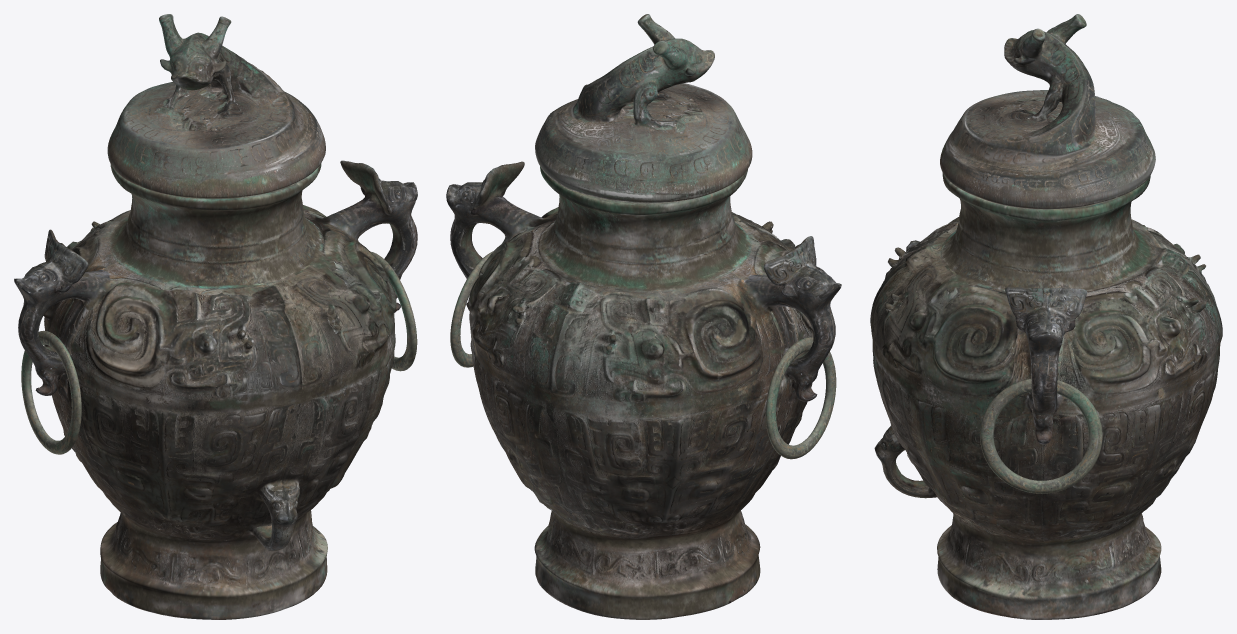
Rendered from STM_Antique_01.fbx.
3 views of the same model, side by side, from view 1: azimuth 30°, elevation 25°; view 2: azimuth 150°, elevation 25°; view 3: azimuth 270°, elevation 25° (orthographic). The views are drawn at different scales.
Parts seen in each view (by area): view 1: STM_Model_01_001, STM_Model_01_002, STM_Model_01_003, STM_Model_01_004; view 2: STM_Model_01_001, STM_Model_01_002, STM_Model_01_003, STM_Model_01_004; view 3: STM_Model_01_001, STM_Model_01_002, STM_Model_01_004.
Part boxes in pixels (box(x1,y1,x2,y2)): STM_Model_01_001: box(14, 160, 417, 619); STM_Model_01_002: box(107, 14, 325, 198); STM_Model_01_003: box(21, 330, 81, 454); STM_Model_01_004: box(370, 251, 417, 371); STM_Model_01_001: box(446, 161, 841, 619); STM_Model_01_002: box(535, 14, 752, 202); STM_Model_01_003: box(765, 337, 836, 459); STM_Model_01_004: box(450, 251, 493, 367); STM_Model_01_001: box(870, 172, 1222, 619); STM_Model_01_002: box(940, 14, 1155, 209); STM_Model_01_004: box(980, 378, 1102, 493).
Size of the model in its own units: 39.17 by 52.86 by 30.83.
